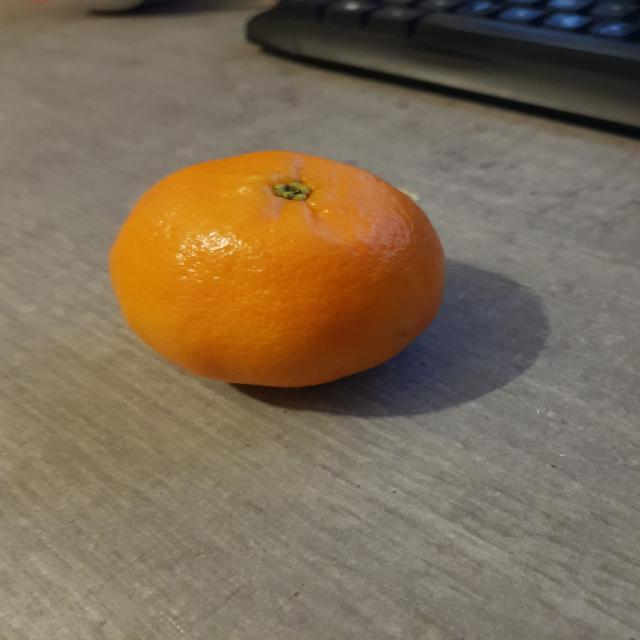Orange: (108, 150, 446, 390)
